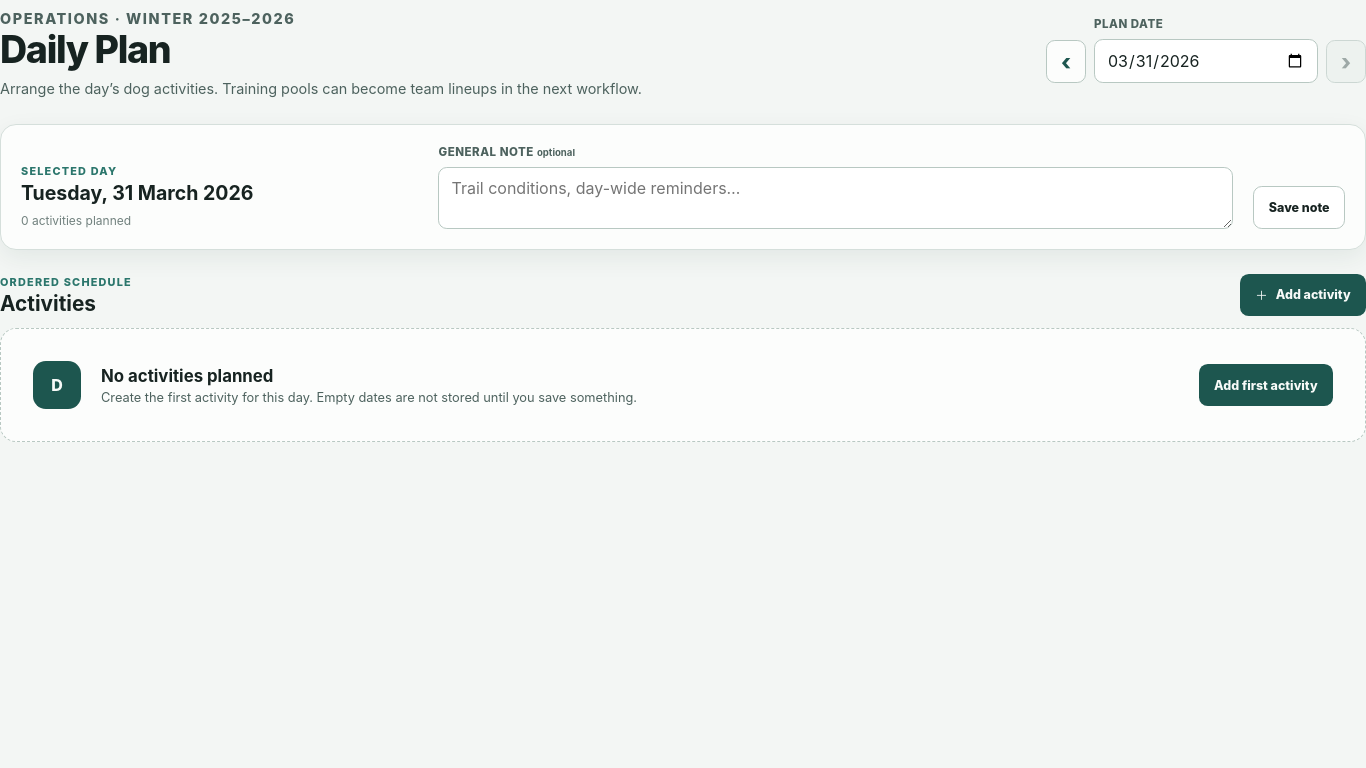
DailyPlanPageComponent › displays a server validation error without closing the editor
The image size is (1366, 768).
Click the button "＋ Add activity".
click(1303, 295)  # box [1240,274,1365,316]
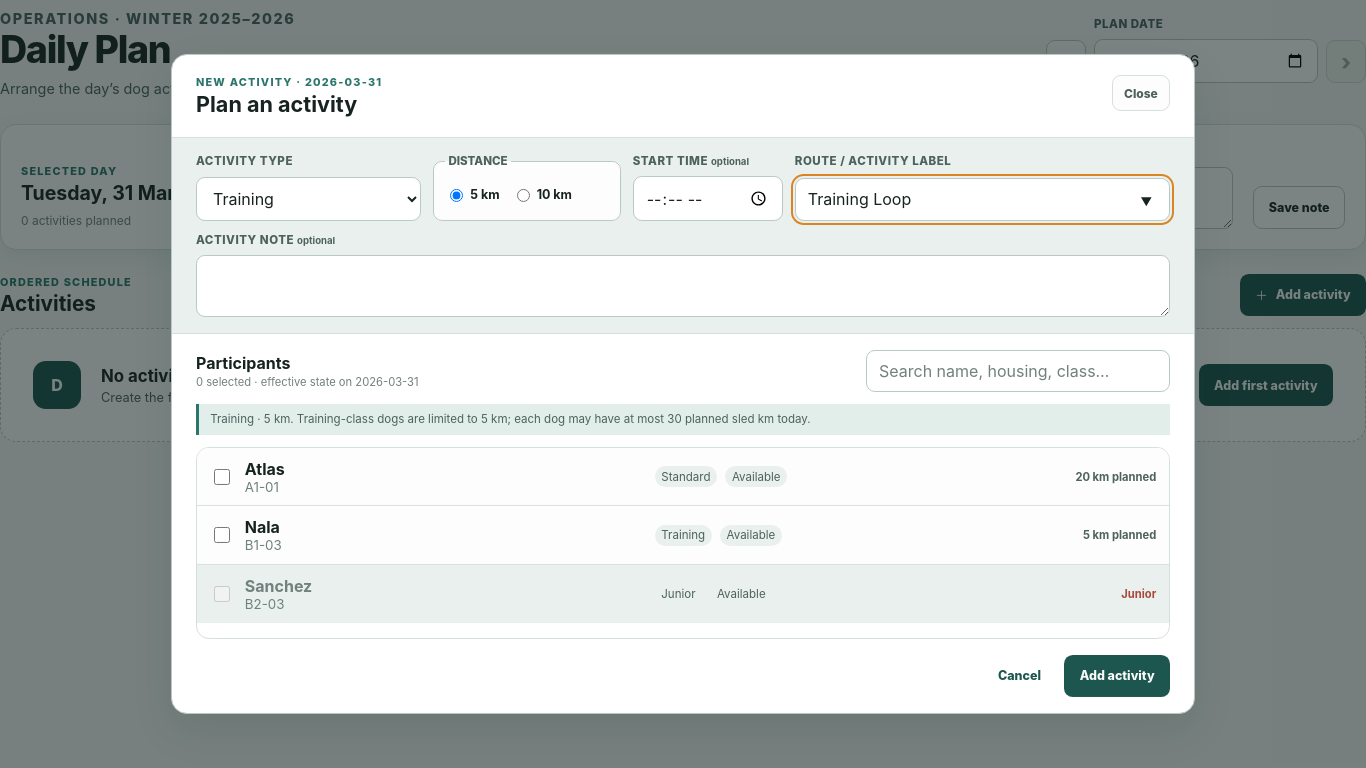
Click the checkbox named "dog-atlas-id".
click(222, 476)  # box [214,468,230,484]
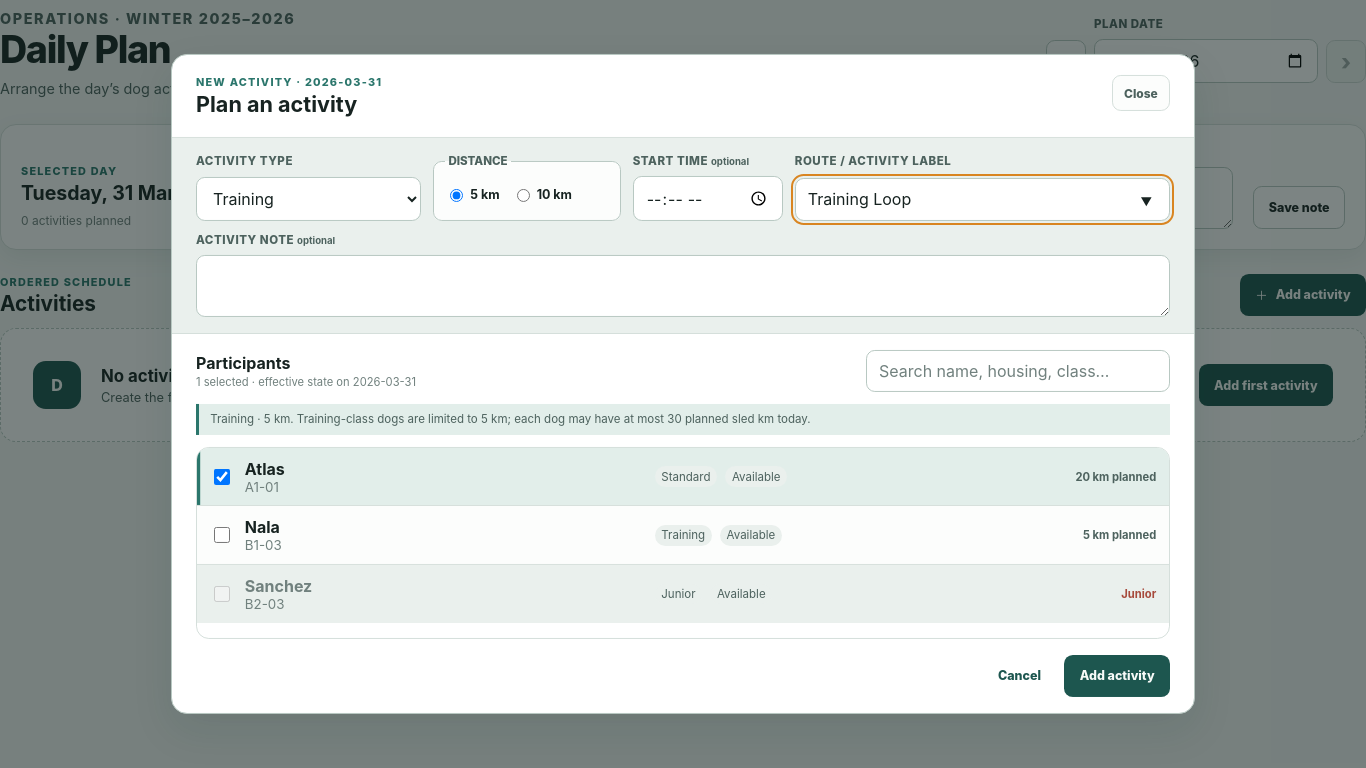
Submit the form, box [172,138,1194,713]
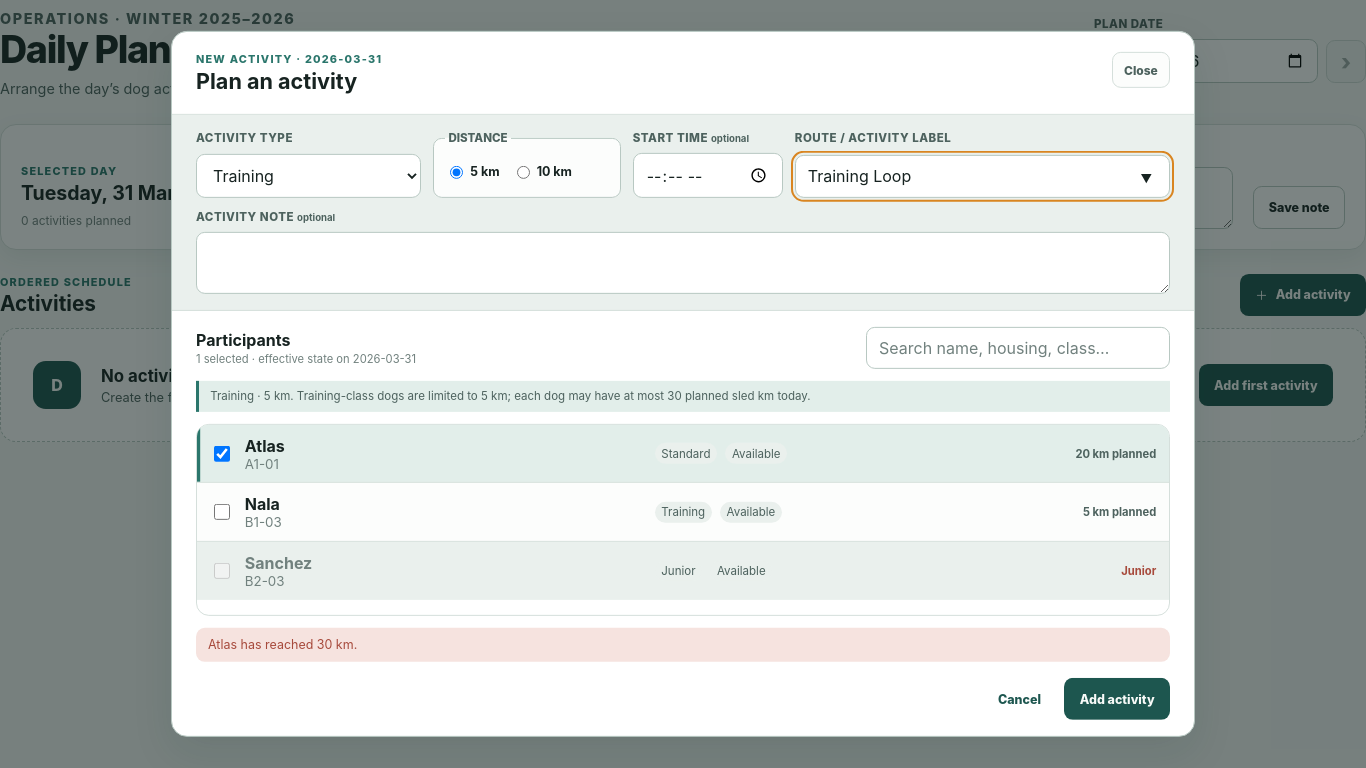
Expected: the dialog is shown
Expected: the message with class "form-error" shows "30 km", [208,637,357,652]
